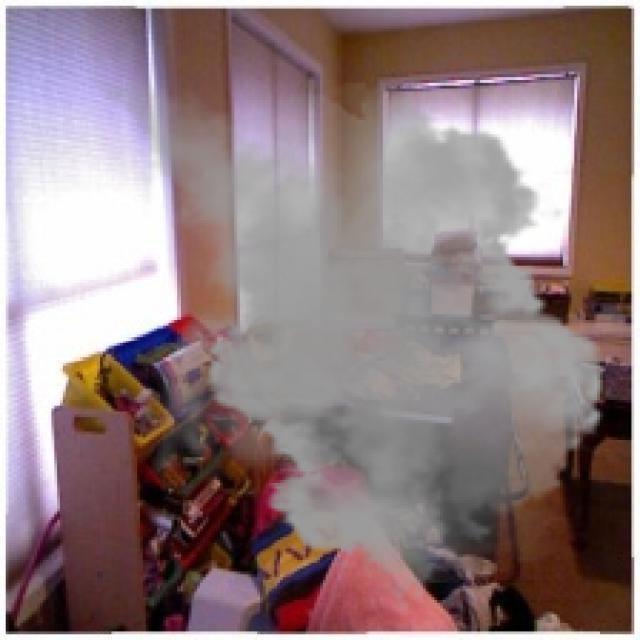Smoke: (65, 62, 620, 614)
